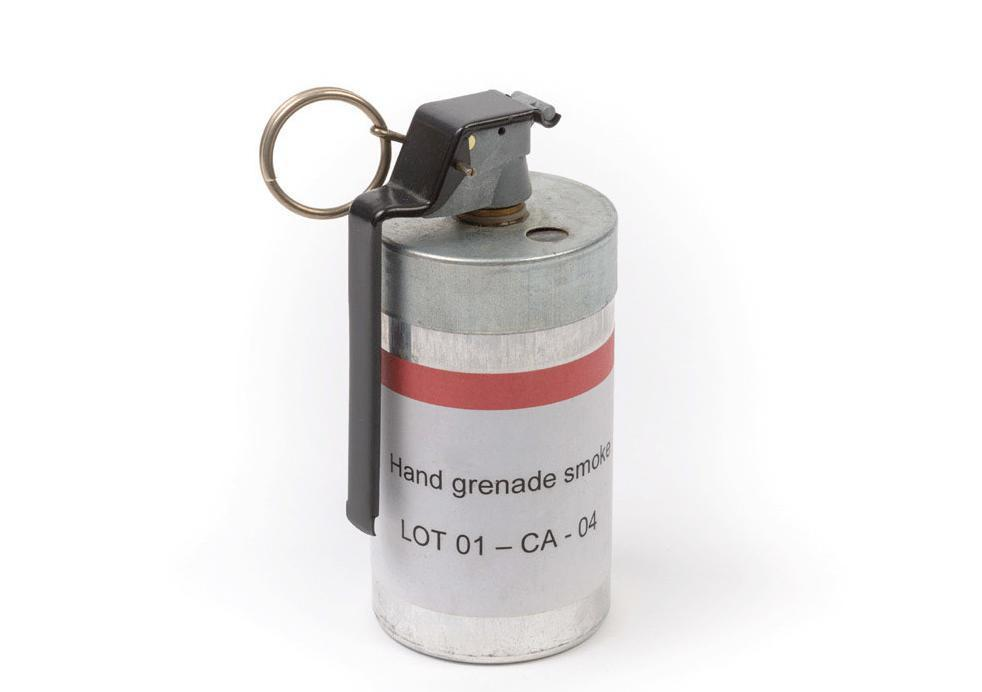Grenade: (258, 84, 618, 666)
